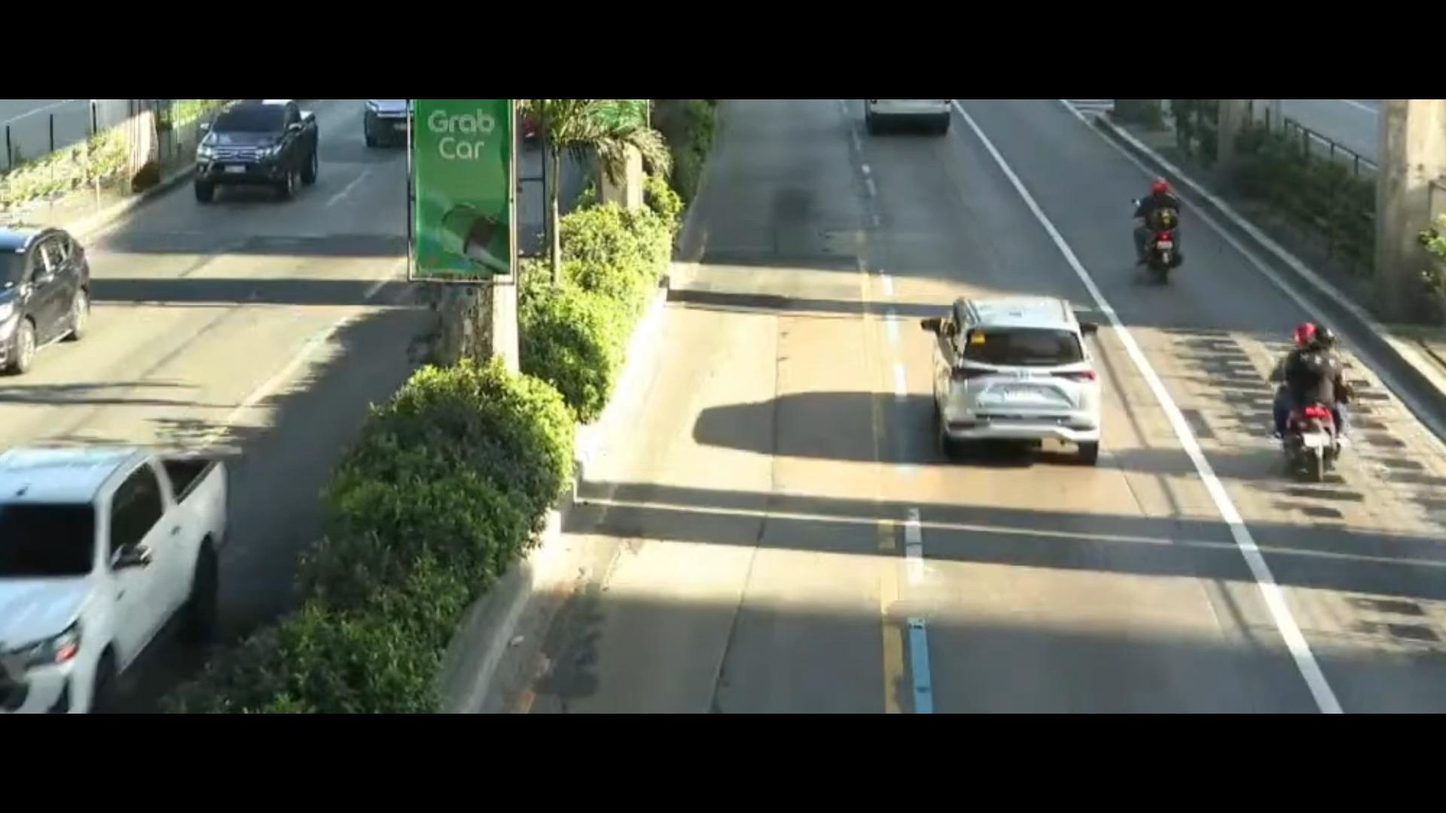Motorcycle: (1244, 311, 1388, 499), (1114, 162, 1217, 286)
Pickup: (0, 394, 278, 711)
SUV: (908, 281, 1119, 482), (171, 91, 334, 220)
Sedan: (0, 209, 119, 387)
